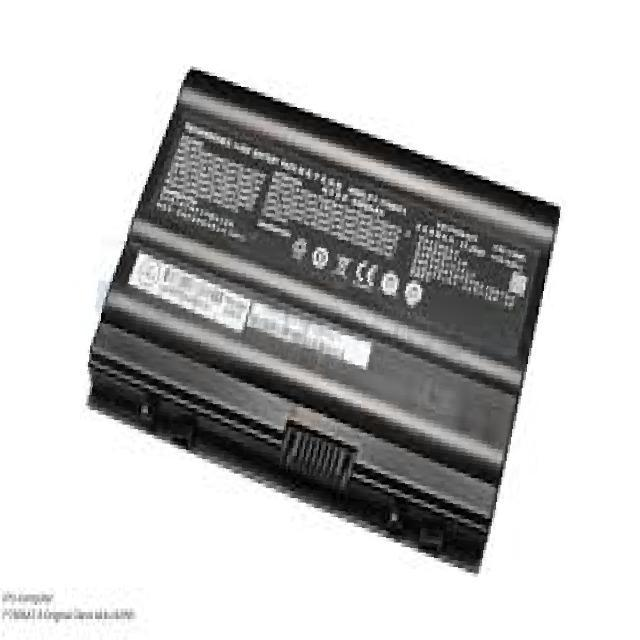Battery: (51, 42, 576, 616)
